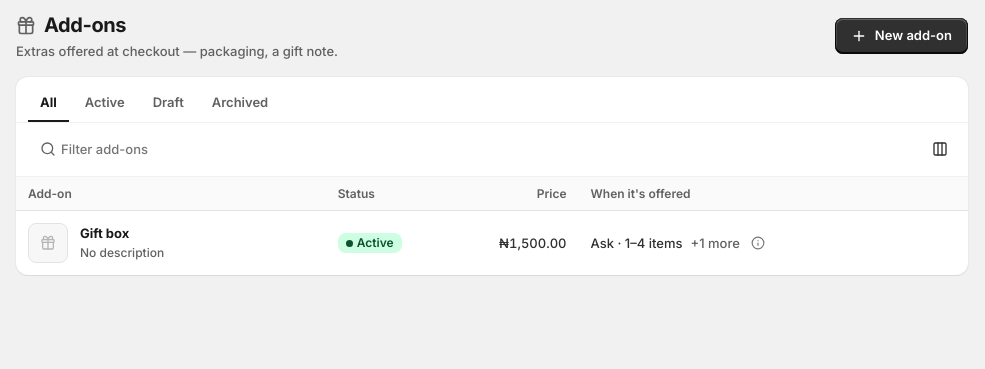
Test case: Add-ons › the (i) shows every rule in full on hover and puts it away on leaving
Expected: the text "Gift box" is shown, top-left (80, 225), bottom-right (129, 241)
Expected: the text "Ask when Items in cart is between 1 and 4" is not shown
Hover over the button named "How Gift box is offered, in full" at (758, 243), box top-left (748, 233), bottom-right (768, 253)
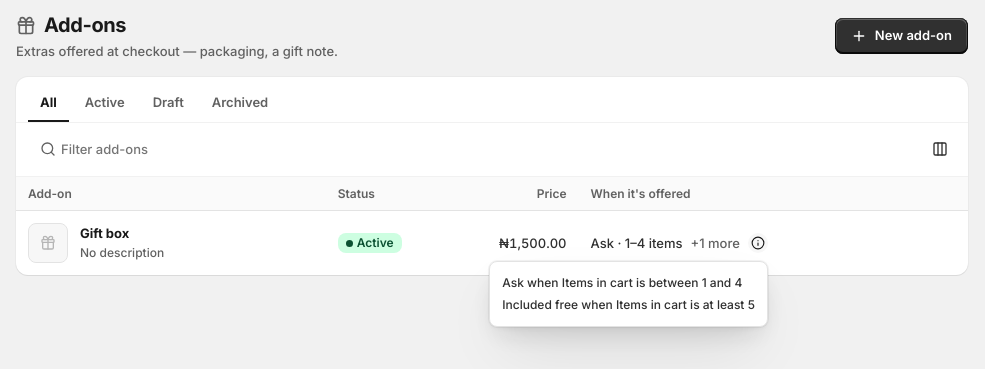
Expected: the list item "Ask when Items in cart is between 1 and 4" is shown, top-left (502, 274), bottom-right (755, 292)
Expected: the list item "Included free when Items in cart is at least 5" is shown, top-left (502, 296), bottom-right (755, 314)
Move the pointer off the button named "How Gift box is offered, in full", box top-left (748, 233), bottom-right (768, 253)
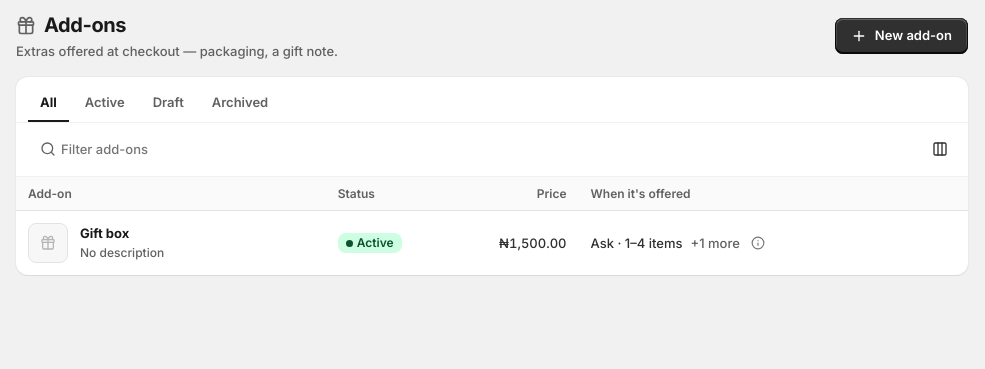
Expected: the list item "Ask when Items in cart is between 1 and 4" is gone
